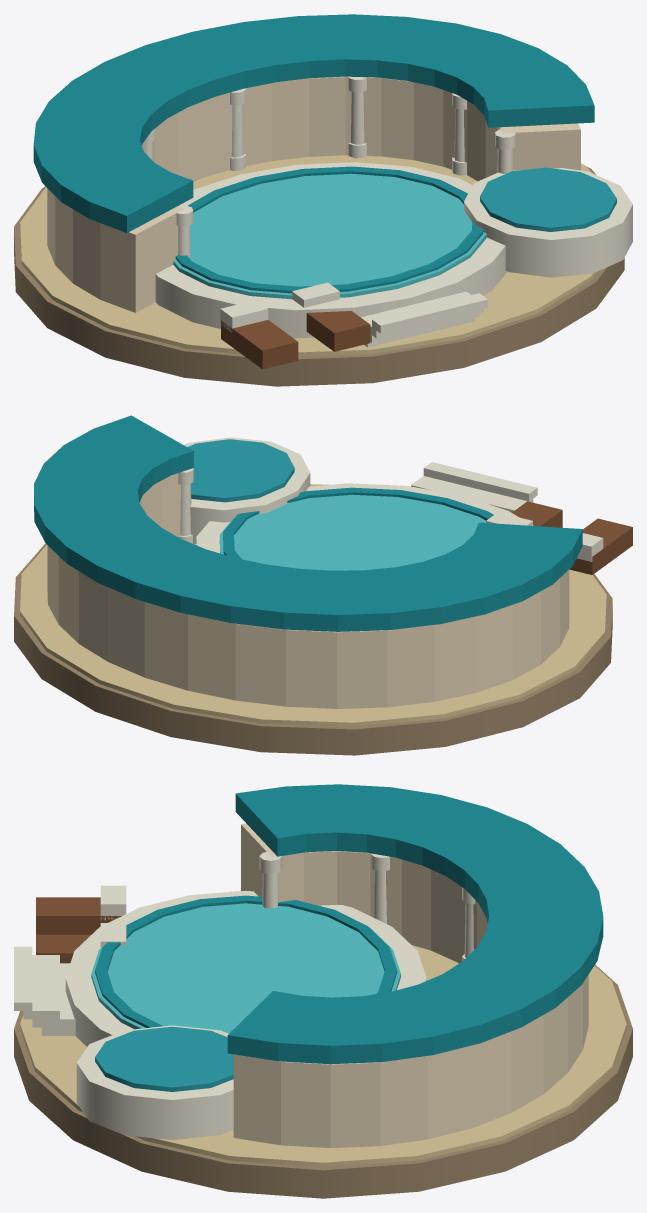
The model's file is recovery-center-lv2.glb.
3 renders of one model, top to bottom at view 1: azimuth 30°, elevation 25°; view 2: azimuth 150°, elevation 25°; view 3: azimuth 270°, elevation 25°, orthographic. The views are drawn at different scales.
Visible parts, largest first — view 1: crescent_roof_aqua, crescent_bathhouse_cream, water_pool, foundation_stoneDark, foundation_sand, pool_terrace_white, raised_pool_white, side_water_water, pool_mosaic_aqua, body_white, sun_loungers_wood, pool_steps_white (+1 smaller); view 2: crescent_roof_aqua, crescent_bathhouse_cream, foundation_stoneDark, foundation_sand, water_pool, side_water_water, raised_pool_white, pool_steps_white, sun_loungers_wood, pool_mosaic_aqua, pool_terrace_white, lounger_cushions_white (+1 smaller); view 3: crescent_roof_aqua, crescent_bathhouse_cream, water_pool, foundation_stoneDark, foundation_sand, raised_pool_white, side_water_water, pool_terrace_white, pool_mosaic_aqua, pool_steps_white, sun_loungers_wood, body_white (+1 smaller).
Part boxes in pixels (bbox=[...]): crescent_roof_aqua: bbox=[33, 14, 594, 232]; crescent_bathhouse_cream: bbox=[47, 76, 580, 312]; water_pool: bbox=[173, 173, 486, 299]; foundation_stoneDark: bbox=[14, 166, 624, 386]; foundation_sand: bbox=[20, 155, 597, 356]; pool_terrace_white: bbox=[155, 162, 507, 338]; raised_pool_white: bbox=[464, 168, 632, 277]; side_water_water: bbox=[480, 167, 616, 231]; pool_mosaic_aqua: bbox=[175, 166, 483, 293]; body_white: bbox=[145, 77, 515, 257]; sun_loungers_wood: bbox=[221, 311, 370, 369]; pool_steps_white: bbox=[361, 291, 487, 347]; crescent_roof_aqua: bbox=[34, 415, 582, 631]; crescent_bathhouse_cream: bbox=[47, 473, 569, 708]; foundation_stoneDark: bbox=[14, 543, 612, 755]; foundation_sand: bbox=[20, 484, 606, 726]; water_pool: bbox=[219, 494, 485, 570]; side_water_water: bbox=[187, 439, 294, 502]; raised_pool_white: bbox=[184, 437, 310, 543]; pool_steps_white: bbox=[411, 462, 537, 512]; sun_loungers_wood: bbox=[512, 501, 632, 574]; pool_mosaic_aqua: bbox=[223, 487, 493, 559]; pool_terrace_white: bbox=[196, 483, 533, 553]; lounger_cushions_white: bbox=[486, 512, 603, 561]; crescent_roof_aqua: bbox=[227, 784, 603, 1064]; crescent_bathhouse_cream: bbox=[233, 823, 588, 1147]; water_pool: bbox=[91, 903, 400, 1033]; foundation_stoneDark: bbox=[14, 964, 632, 1198]; foundation_sand: bbox=[20, 891, 626, 1167]; raised_pool_white: bbox=[76, 1025, 233, 1139]; side_water_water: bbox=[95, 1026, 233, 1091]; pool_terrace_white: bbox=[65, 890, 426, 1046]; pool_mosaic_aqua: bbox=[95, 895, 397, 1027]; pool_steps_white: bbox=[14, 946, 75, 1035]; sun_loungers_wood: bbox=[36, 897, 121, 963]; body_white: bbox=[259, 851, 475, 961].
Size of the model in its own units: 1 by 0.2335 by 0.9231.
